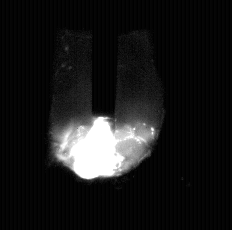arame: (93, 0, 116, 122)
poca: (50, 0, 162, 230)
